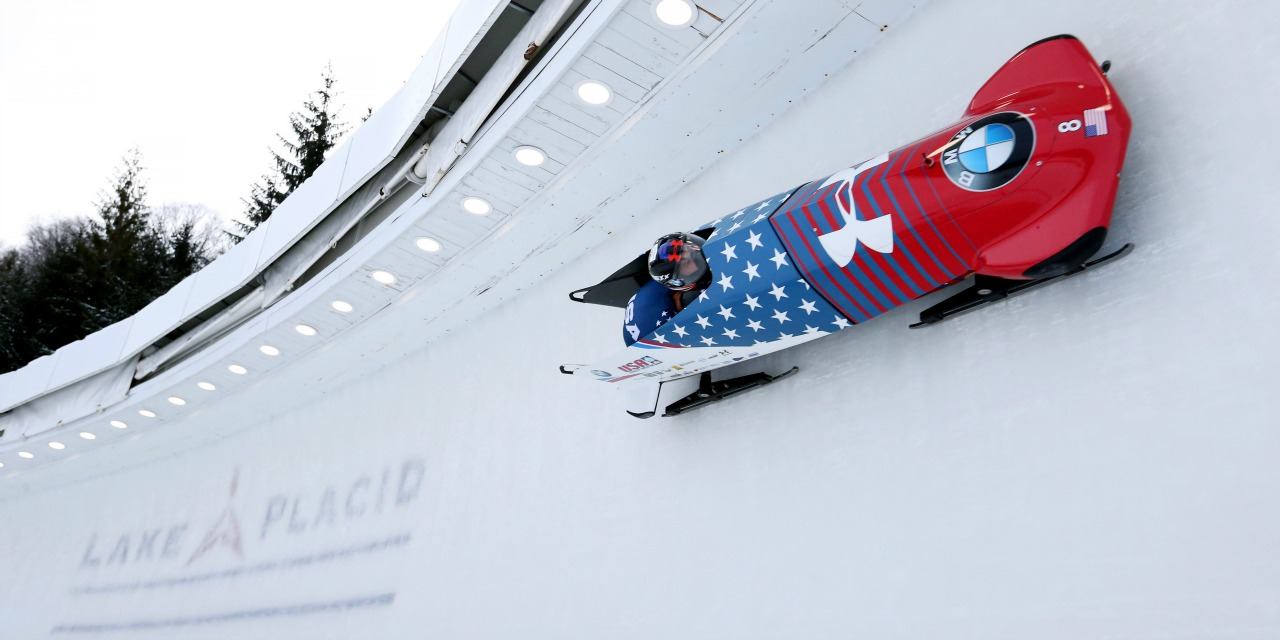Bobsleigh: (560, 35, 1132, 420)
